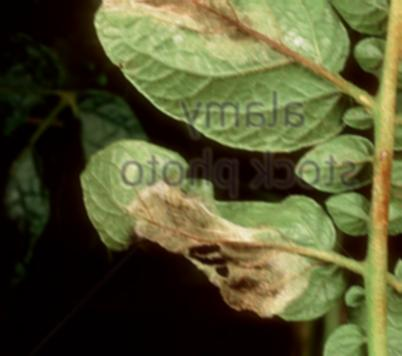Tomato leaf late blight: (73, 132, 357, 322), (83, 0, 352, 153)
